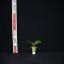leaf: (26, 40, 34, 45), (34, 40, 42, 45), (26, 43, 34, 47), (28, 46, 33, 51), (34, 44, 38, 46), (34, 47, 38, 49)
